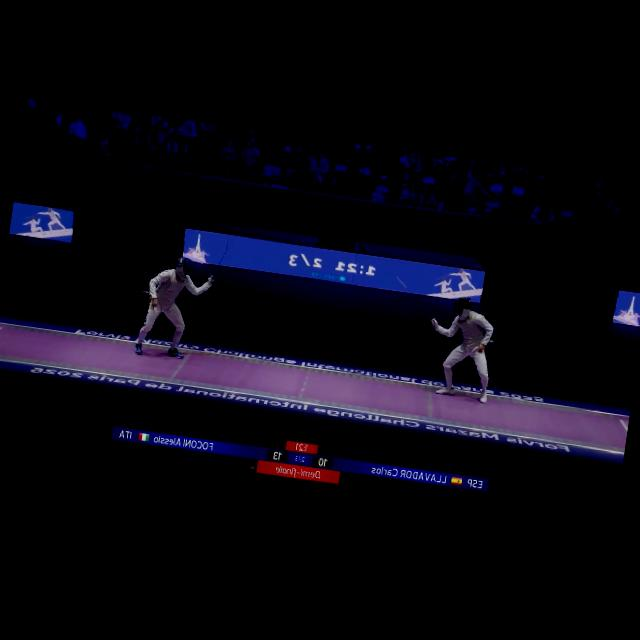blade: (390, 276, 447, 326), (204, 236, 234, 286)
